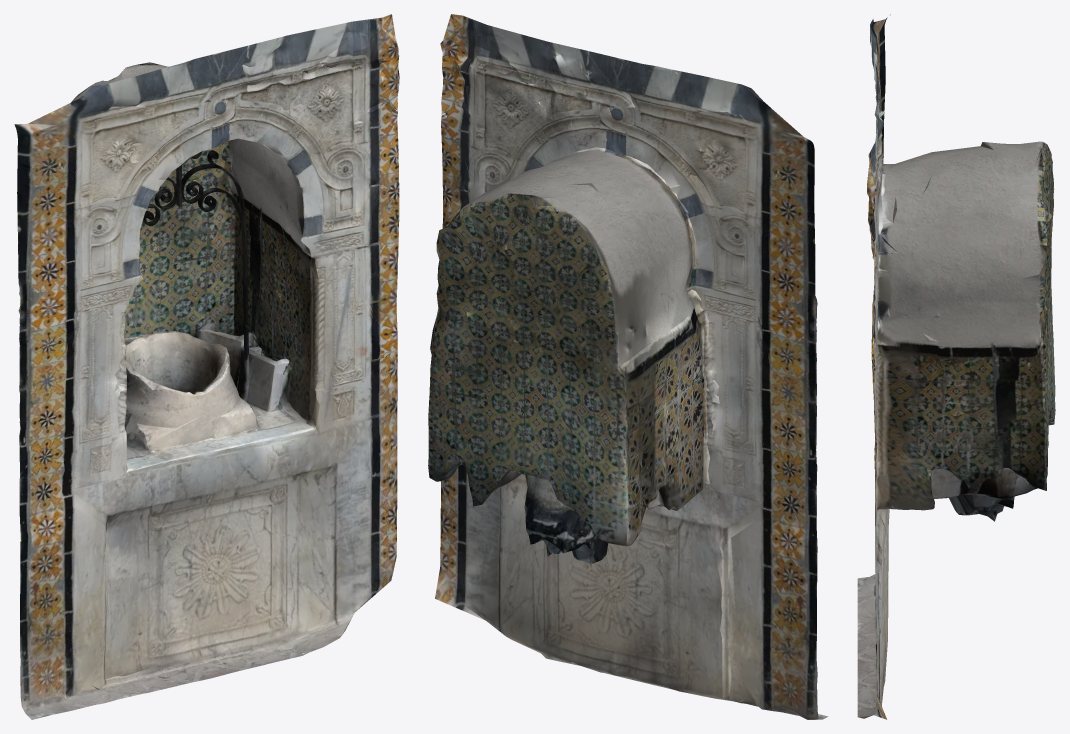
Rendered from traditional-well.glb.
3 renders of one model, left to right at view 1: azimuth 30°, elevation 25°; view 2: azimuth 150°, elevation 25°; view 3: azimuth 270°, elevation 25°, orthographic. The views are drawn at different scales.
Visible parts, largest first — view 1: Object_3; view 2: Object_3; view 3: Object_3.
Part boxes in pixels (x1,y1,x2,y2): Object_3: [14, 14, 399, 719]; Object_3: [428, 14, 828, 719]; Object_3: [857, 14, 1055, 719].
Bounding box in the file's own units: 1.29 × 2.01 × 0.6064.
1 material, 1 textured.
